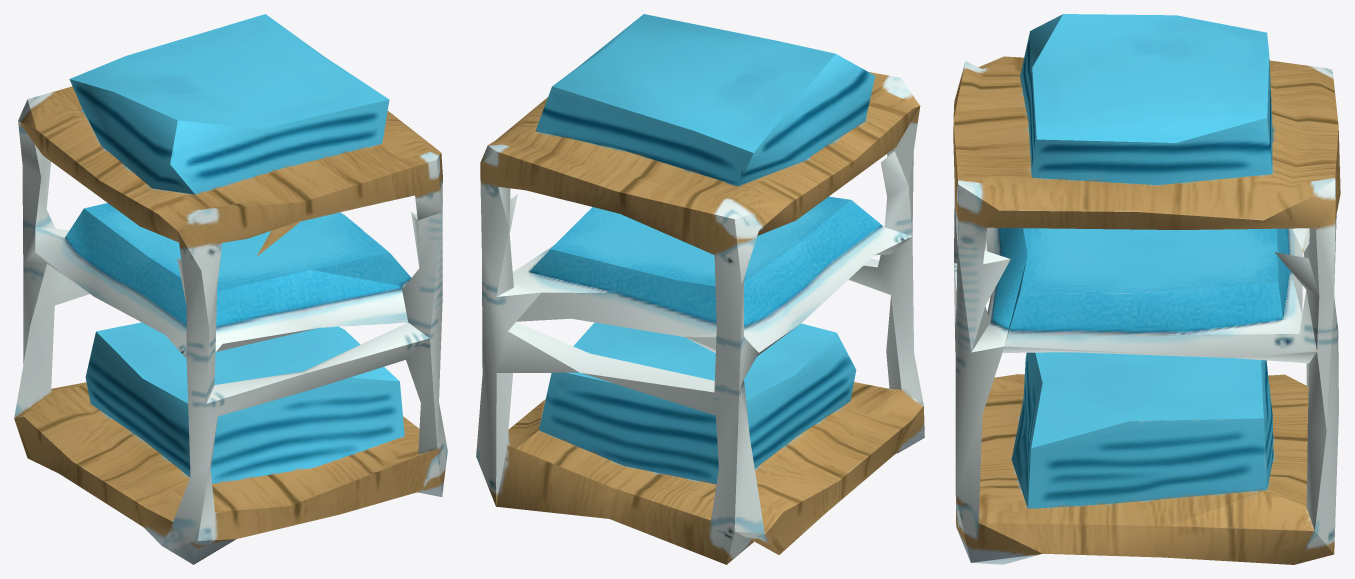
The model's file is poolhouse-towel-shelf.glb.
The picture shows the model from 3 angles, left to right: view 1: azimuth 30°, elevation 25°; view 2: azimuth 150°, elevation 25°; view 3: azimuth 270°, elevation 25°; orthographic projection. The views are drawn at different scales.
Visible parts, largest first — view 1: geometry_0; view 2: geometry_0; view 3: geometry_0.
Boxes of the visible parts, x1,y1,x2,y2 form: geometry_0: (14,14,447,564); geometry_0: (476,14,924,564); geometry_0: (953,14,1340,564).
Size of the model in its own units: 0.7585 by 1 by 0.7882.
Materials: 1 (1 with a texture image).
